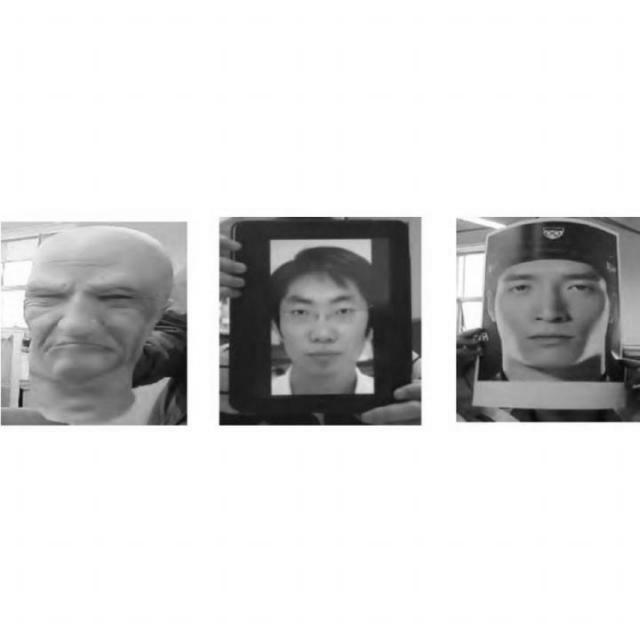fake: (227, 218, 409, 417), (5, 223, 181, 425), (466, 218, 623, 417)
